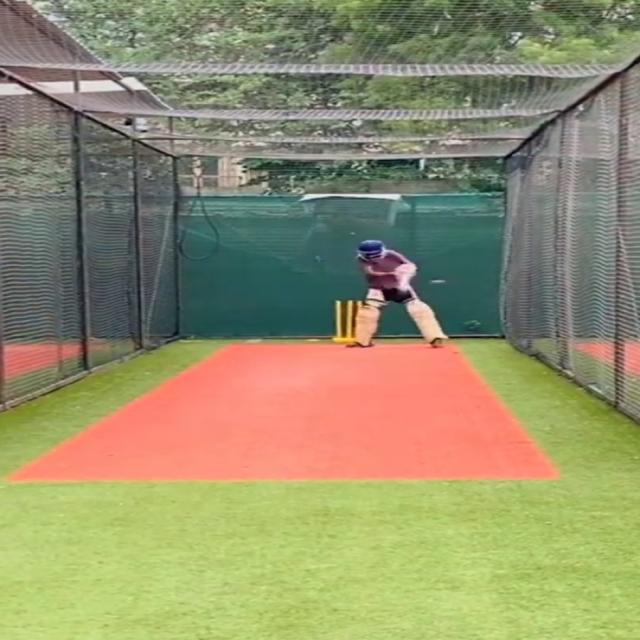stump: (329, 299, 362, 344)
